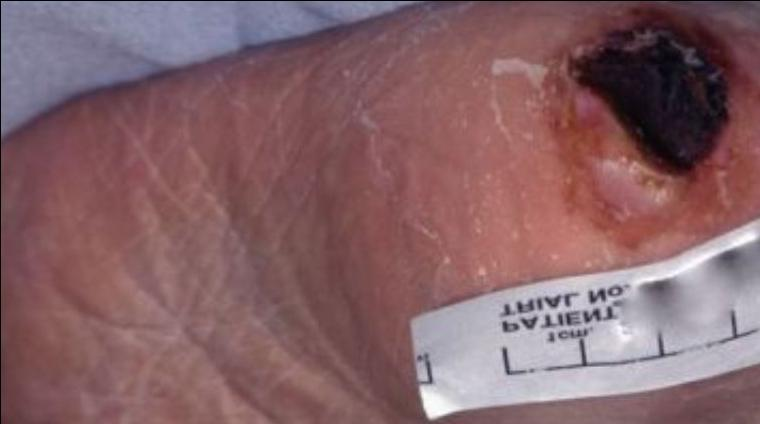Stage4: (587, 0, 760, 195)
